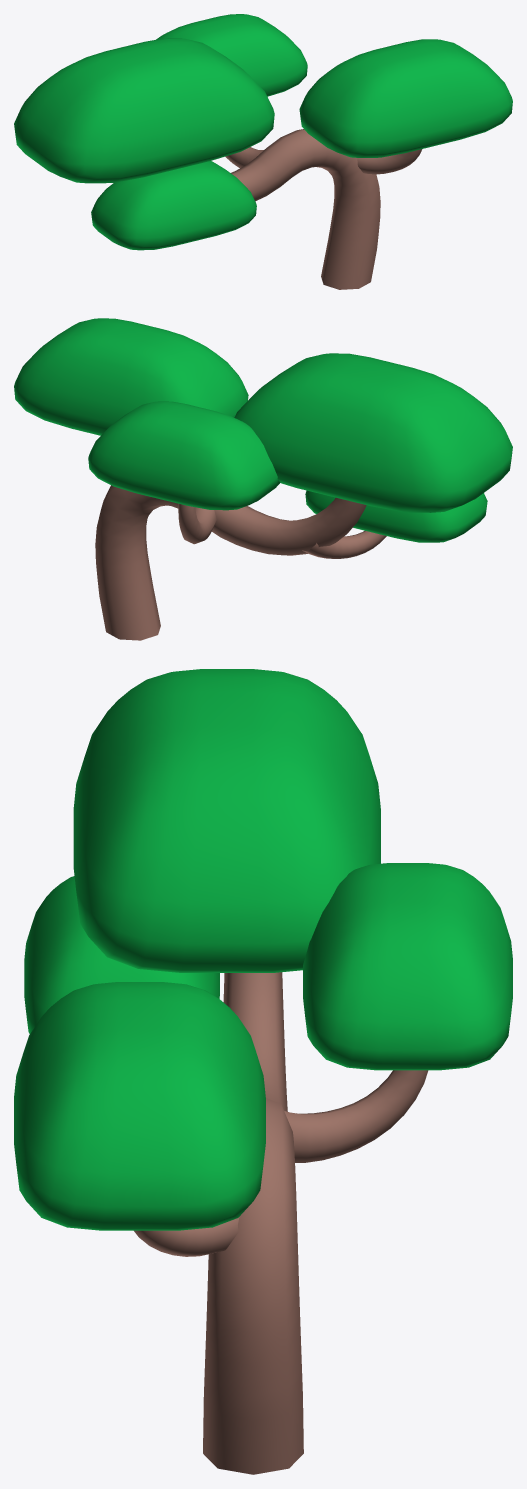
File: Town_8_Tree_1.glb
The picture shows the model from 3 angles, top to bottom: view 1: azimuth 30°, elevation 25°; view 2: azimuth 150°, elevation 25°; view 3: azimuth 270°, elevation 25°; orthographic projection. The views are drawn at different scales.
Visible parts, largest first — view 1: Town_8_Tree_1; view 2: Town_8_Tree_1; view 3: Town_8_Tree_1.
Part boxes in pixels (box(x1,y1,x2,y2)): Town_8_Tree_1: box(14, 14, 512, 289); Town_8_Tree_1: box(14, 318, 512, 640); Town_8_Tree_1: box(14, 669, 512, 1474).
Bounding box in the file's own units: 9.82 × 5.96 × 4.94.
Materials: 1 (1 with a texture image).
